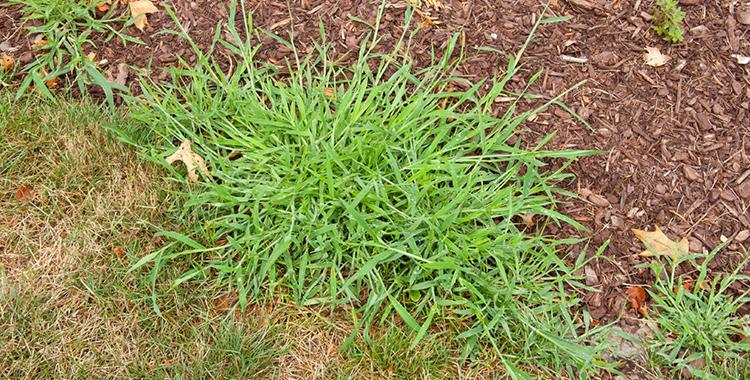crabgrass: (95, 59, 594, 315), (644, 256, 750, 372), (16, 1, 133, 93)
